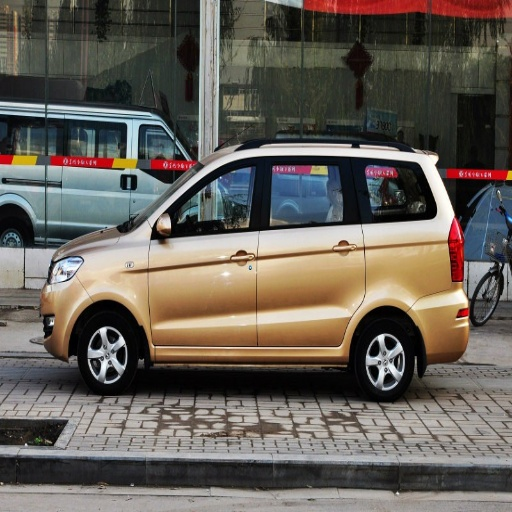back_left_door: (258, 153, 366, 347)
front_left_door: (148, 156, 262, 346)
trunk: (409, 298, 447, 355)
